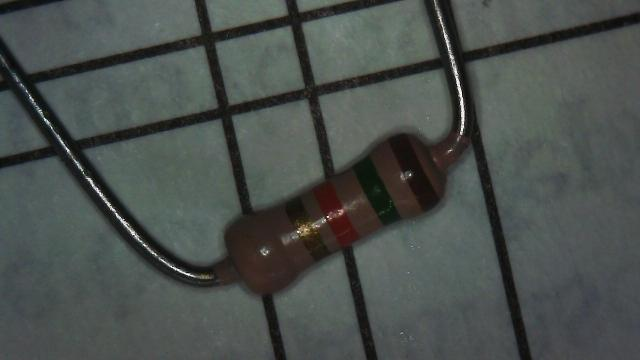brown: (396, 136, 428, 206)
gold: (288, 202, 318, 257)
green: (361, 160, 391, 224)
orange: (323, 189, 348, 242)
resistor: (195, 95, 483, 330)
